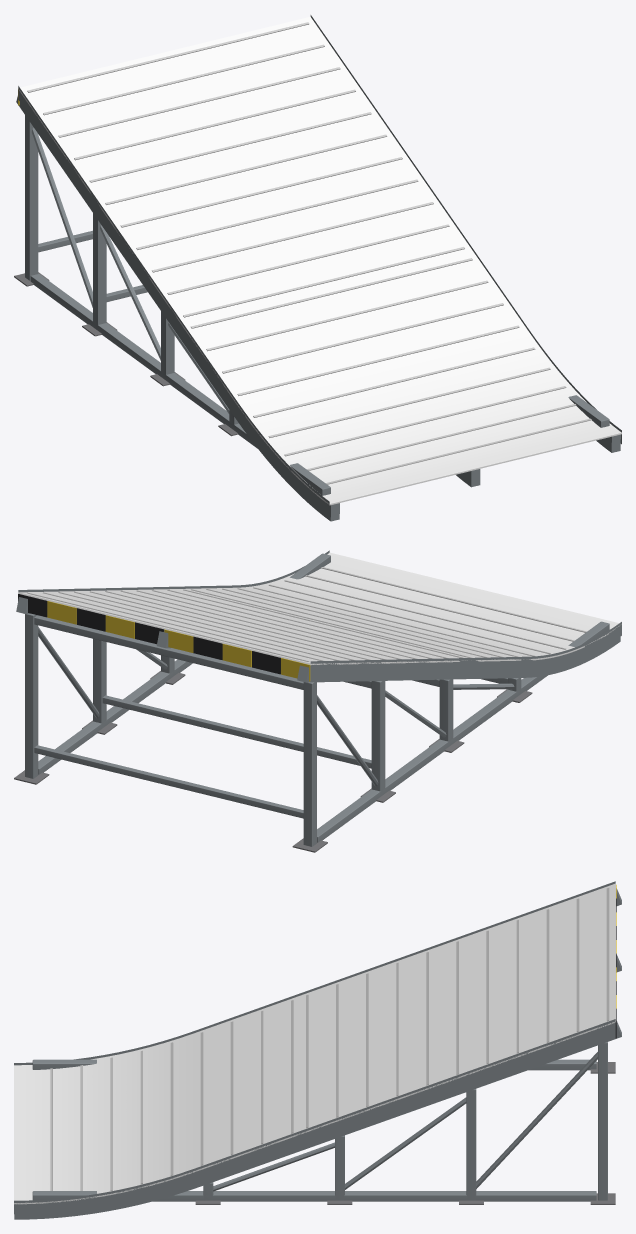
The model's file is ramp_large.glb.
The picture shows the model from 3 angles, top to bottom: view 1: azimuth 30°, elevation 25°; view 2: azimuth 150°, elevation 25°; view 3: azimuth 270°, elevation 25°; orthographic projection. The views are drawn at different scales.
Visible parts, largest first — view 1: SM_ramp_large; view 2: SM_ramp_large; view 3: SM_ramp_large.
Part boxes in pixels (x1=…): SM_ramp_large: x1=14, y1=15, x2=621, y2=521; SM_ramp_large: x1=14, y1=550, x2=621, y2=852; SM_ramp_large: x1=14, y1=881, x2=621, y2=1219.
Size of the model in its own units: 2.68 by 1.77 by 4.85.
